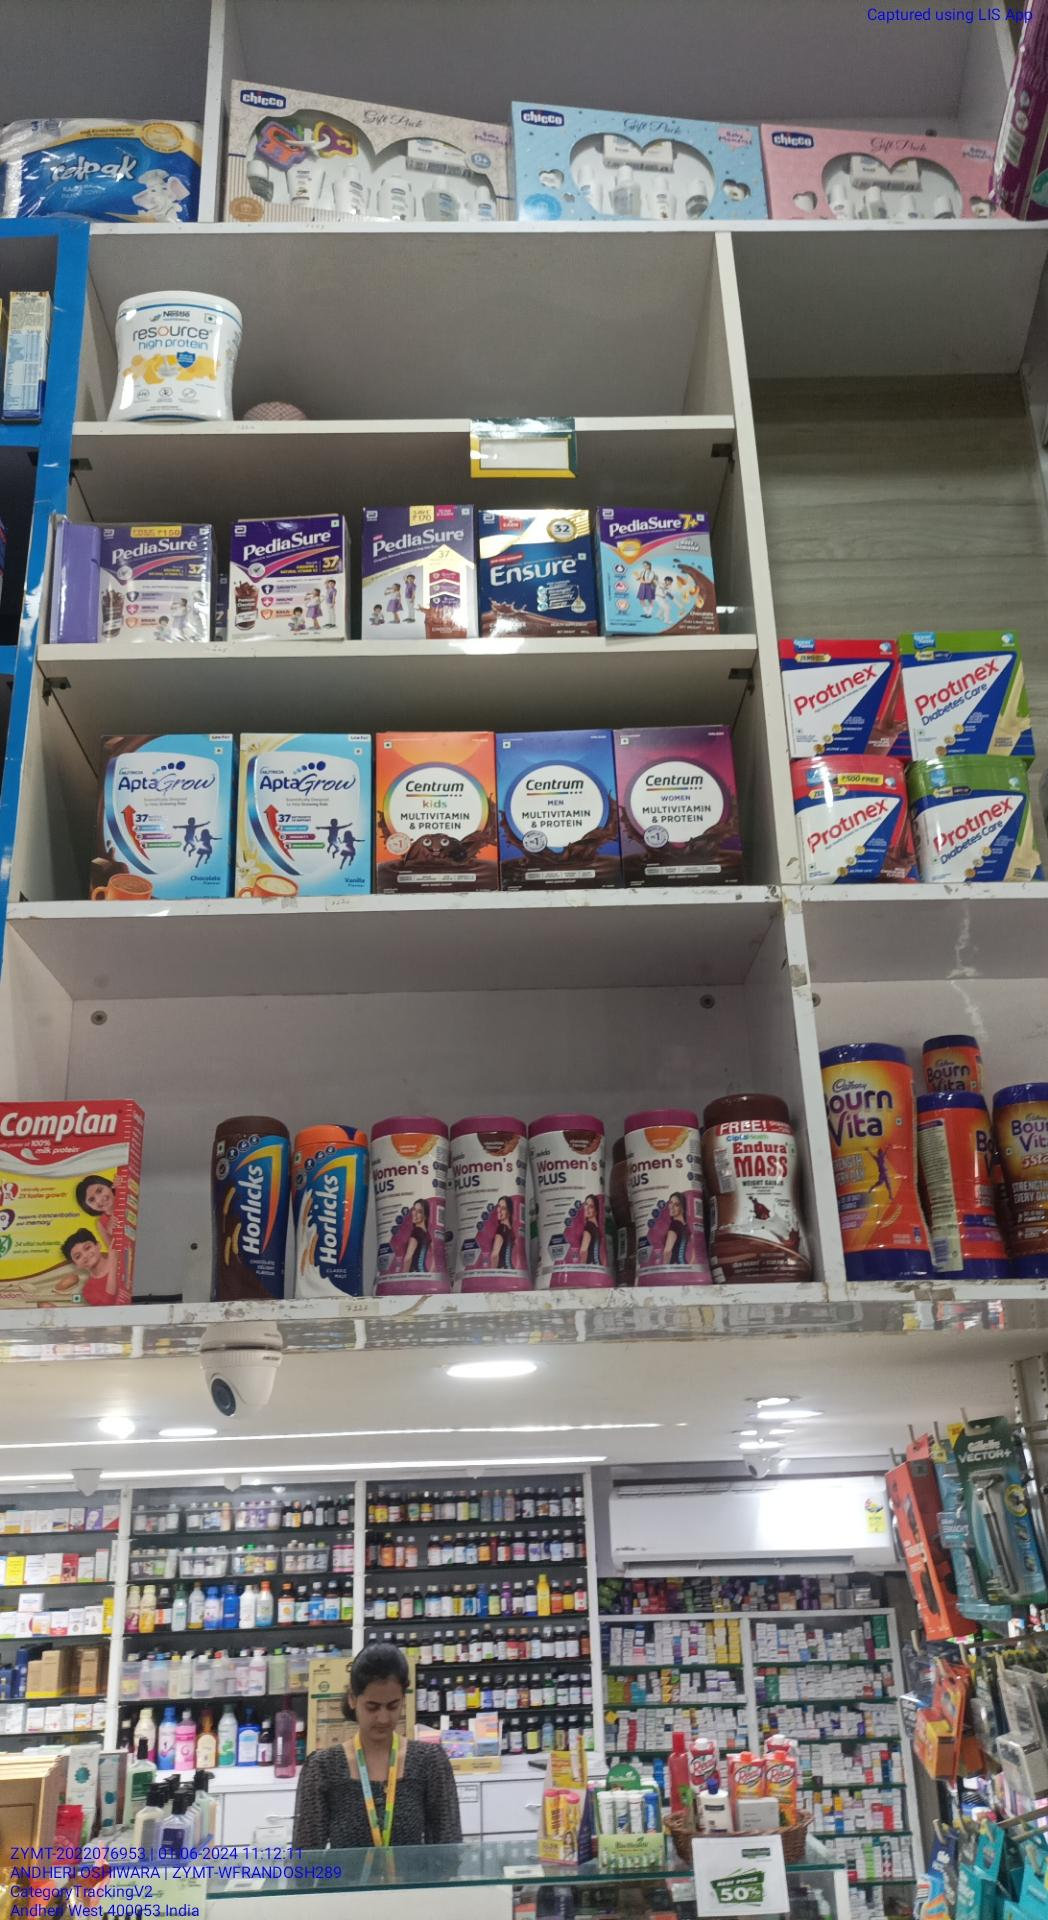BOURN_VITA_1_KG_JAR: (823, 1040, 920, 1277)
COMPLAN_KESAR_BADAM_500_GMS_PACK: (0, 1098, 128, 1307)
HORLICK_CLASSIC_MALT_500_G_JAR: (293, 1125, 368, 1302)
PEDIASURE_7_PLUS_CHOCOLATE_400_G_PACK: (601, 508, 714, 632)
PEDIASURE_CHOCOLATE_500_G_PACK: (363, 507, 475, 635)
PROTINEX_CHOCOLATE_400_G_JAR: (799, 755, 911, 883)
